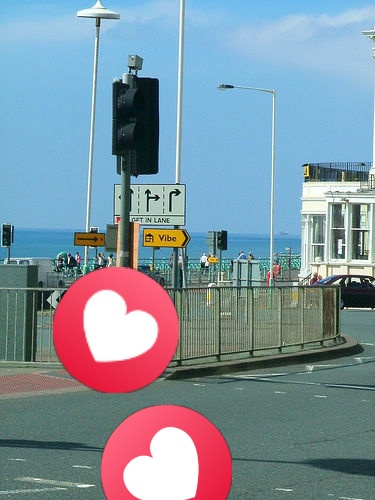love: (53, 267, 179, 393), (101, 405, 232, 500)
